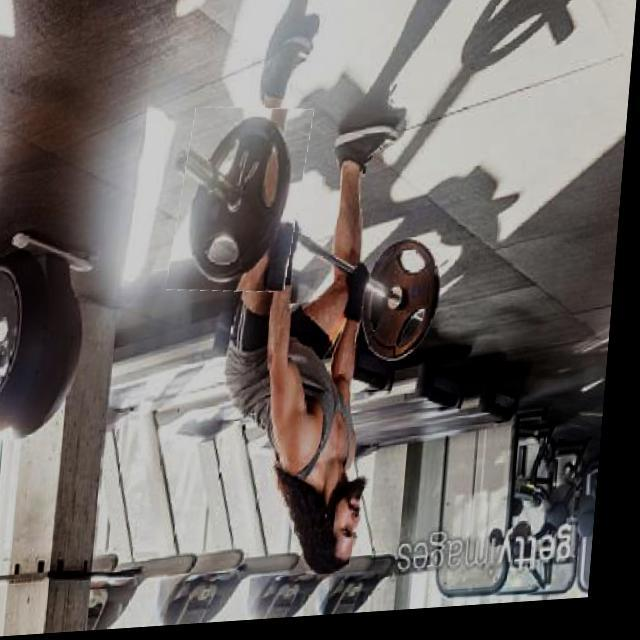barbell: (176, 107, 314, 300)
